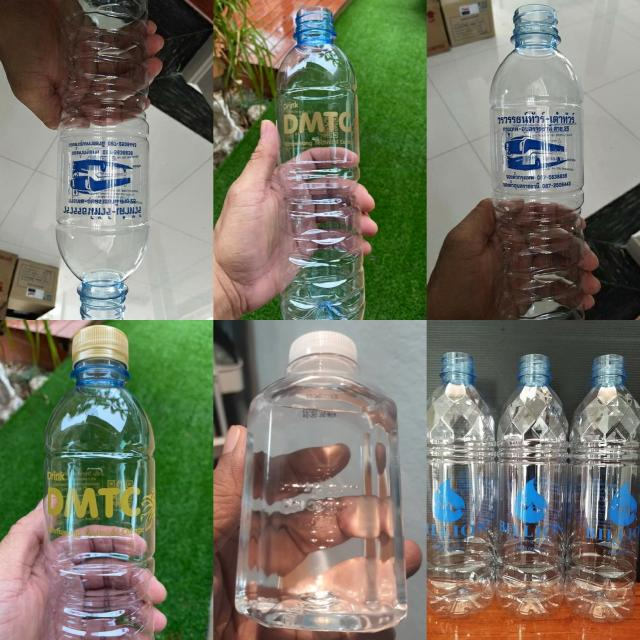plastik: (235, 332, 406, 632), (44, 327, 155, 640), (490, 5, 585, 319), (56, 0, 149, 319), (276, 8, 365, 319), (565, 354, 640, 622), (496, 354, 569, 615), (428, 352, 496, 615)
